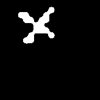single_crochet: (18, 7, 53, 42)
